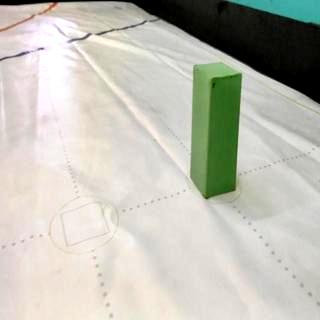greenbox: (190, 60, 243, 200)
